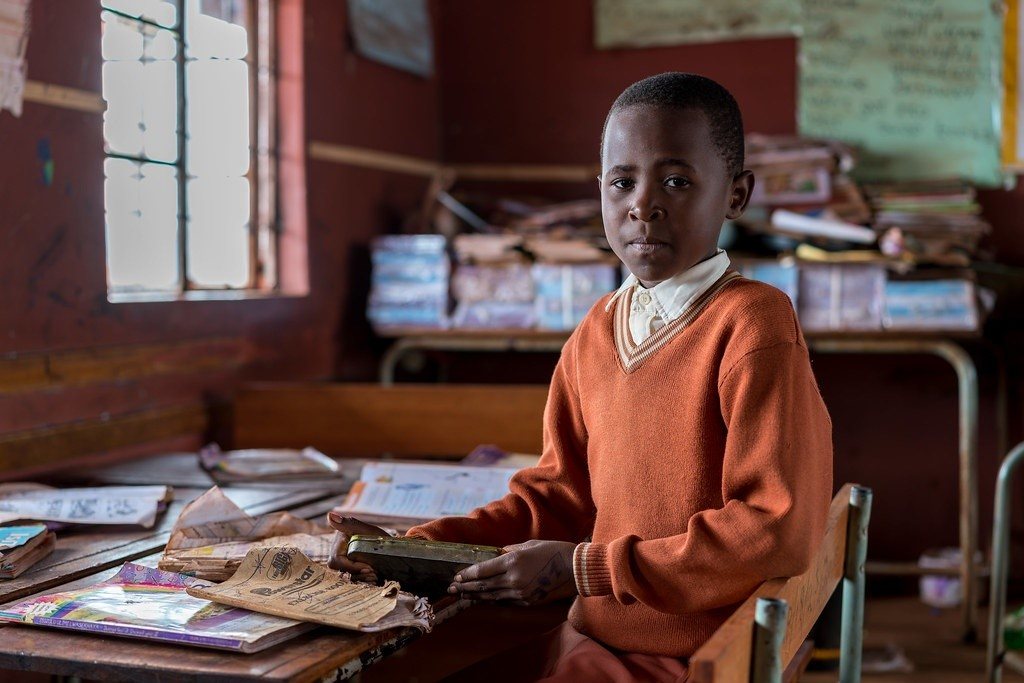face_no_mask: (602, 70, 749, 278)
